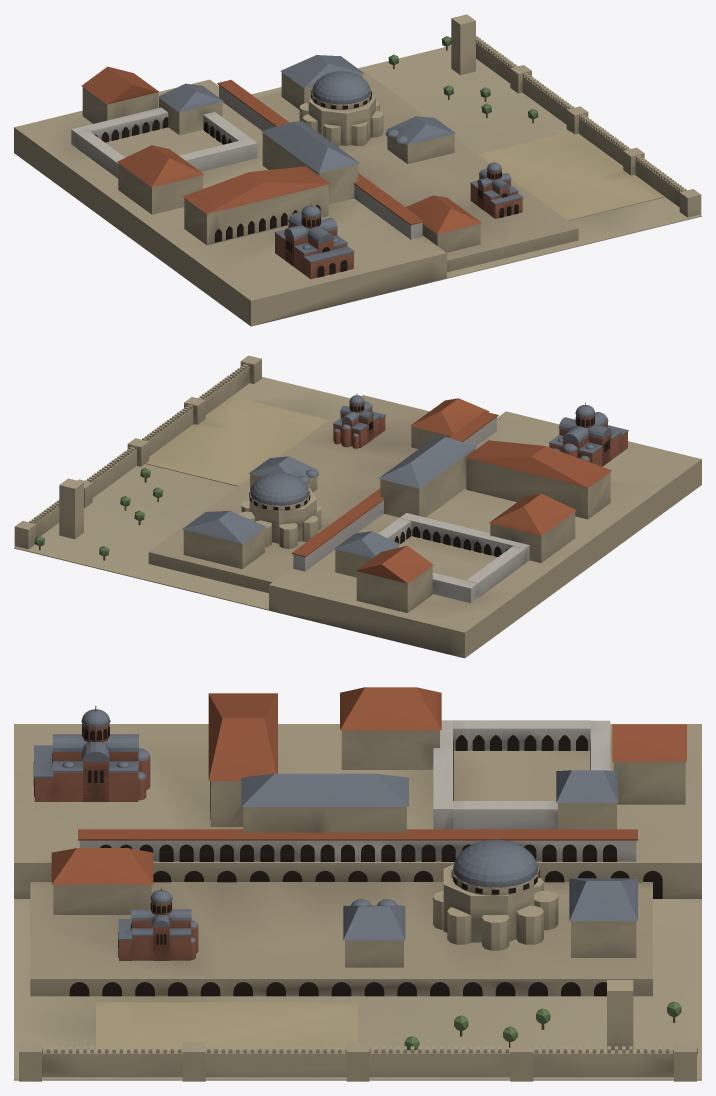
Rendered from great-palace.glb.
The picture shows the model from 3 angles, top to bottom: view 1: azimuth 30°, elevation 25°; view 2: azimuth 150°, elevation 25°; view 3: azimuth 270°, elevation 25°; orthographic projection. The views are drawn at different scales.
Parts seen in each view (by area): view 1: p0_terraces, p2_domes, p1_halls; view 2: p0_terraces, p2_domes, p1_halls; view 3: p0_terraces, p2_domes, p1_halls.
Part boxes in pixels (left/top/right/bottom): p0_terraces: left=14, top=45, right=701, bottom=326; p2_domes: left=117, top=14, right=701, bottom=279; p1_halls: left=71, top=66, right=383, bottom=245; p0_terraces: left=14, top=377, right=701, bottom=658; p2_domes: left=14, top=355, right=628, bottom=577; p1_halls: left=238, top=436, right=611, bottom=612; p0_terraces: left=14, top=724, right=701, bottom=1080; p2_domes: left=19, top=687, right=697, bottom=1081; p1_halls: left=208, top=693, right=686, bottom=950.
Bounding box in the file's own units: 220 × 38.03 × 200.
